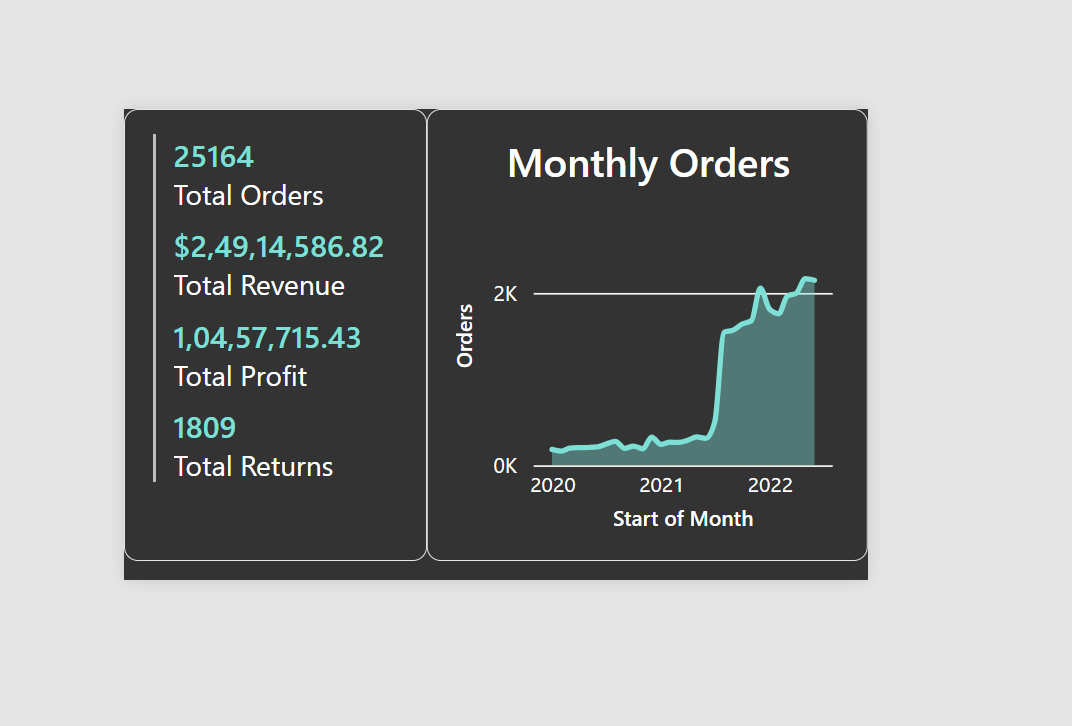

The dashboard page shown, as its layout file describes it:
{"tool":"powerbi","page":{"name":"Custom Tooltip","canvas":[425,270],"ordinal":4},"visuals":[{"type":"multiRowCard","fields":{"Values":["Table Measure.Total Orders","Table Measure.Total Revenue","Table Measure.Total Profit","Table Measure.Total Returns"]},"box":[0,0,173,259],"z":0},{"type":"areaChart","title":"Monthly Orders","fields":{"Category":["Calendar Lookup.Start of Month"],"Y":["Table Measure.Total Orders"]},"box":[173,0,252,259],"z":1}]}

Visuals, with their boxes on the page's 425x270 design canvas (x1, y1, x2, y2). These are canvas units, not pixel positions in the 1072x726 screenshot, which may show the page scaled, cropped or inside an application window:
multiRowCard - Table Measure.Total Orders x Table Measure.Total Revenue: Rect(0, 0, 173, 259)
"Monthly Orders" areaChart: Rect(173, 0, 425, 259)
